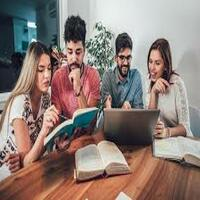person: (51, 11, 96, 84), (142, 27, 185, 89), (19, 34, 57, 100), (104, 24, 144, 85)
